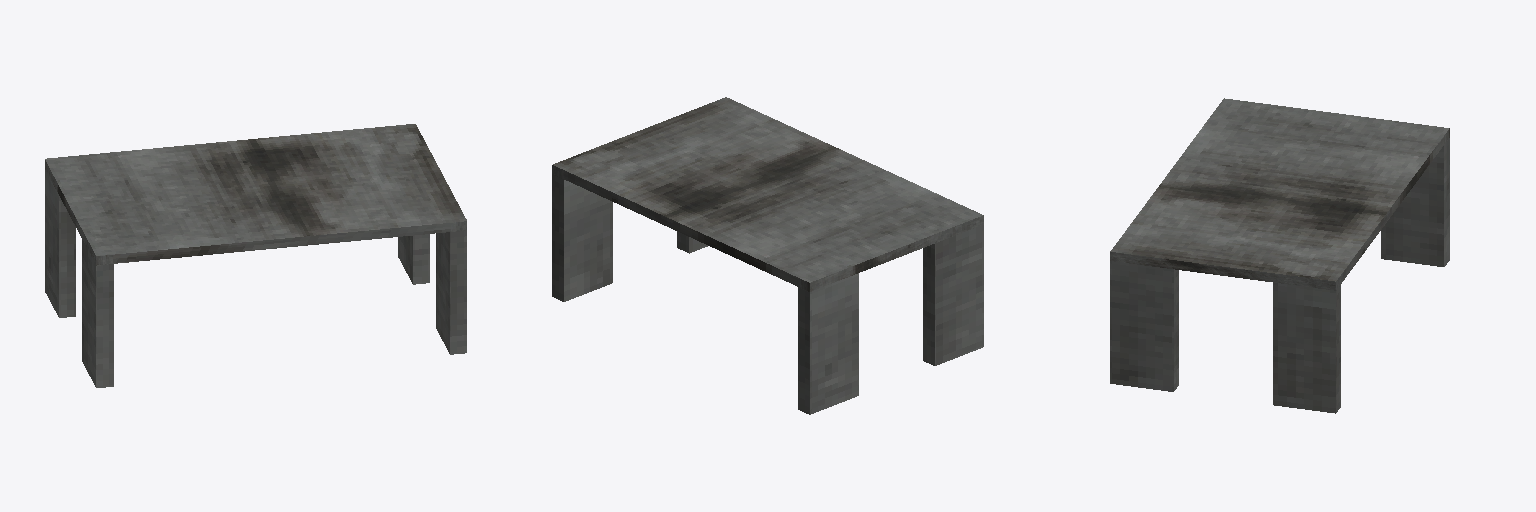
3 views of the same model, side by side, from view 1: azimuth 30°, elevation 25°; view 2: azimuth 150°, elevation 25°; view 3: azimuth 270°, elevation 25° (orthographic).
Parts seen in each view (by area): view 1: table; view 2: table; view 3: table.
Boxes of the visible parts, box(x1,y1,x2,y2) form: table: box(45, 124, 466, 387); table: box(552, 97, 983, 414); table: box(1110, 98, 1449, 413).
Bounding box in the file's own units: 2.78 × 0.9348 × 2.18.
1 materials, 1 textured.